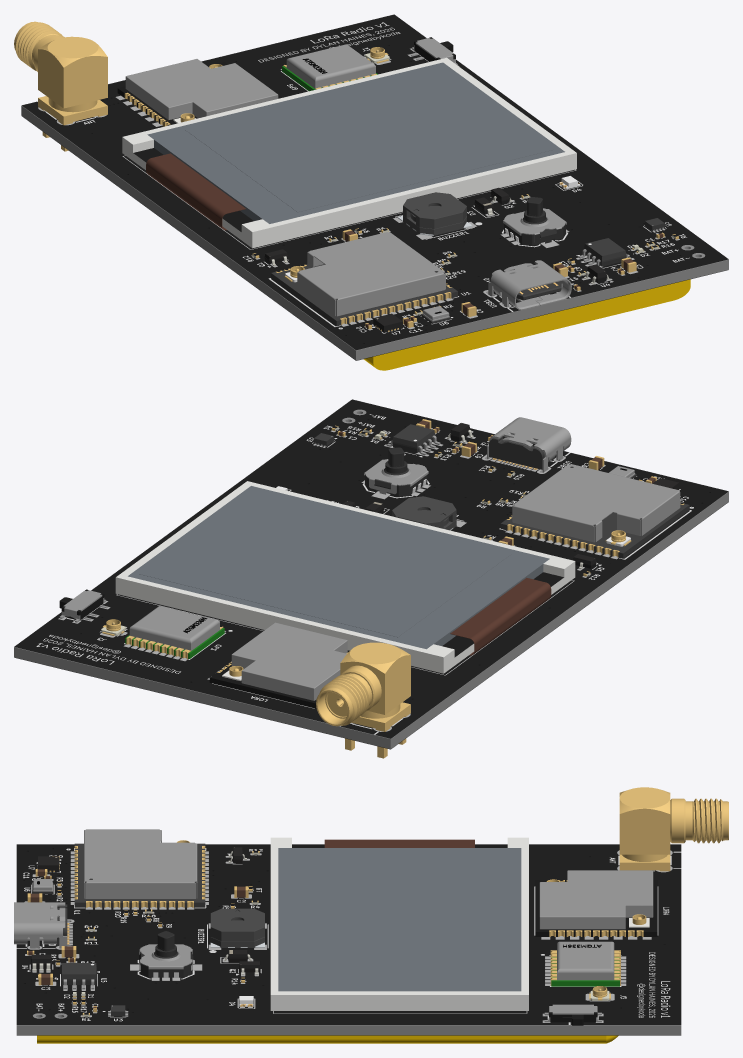
3 views of the same model, one above another, from view 1: azimuth 30°, elevation 25°; view 2: azimuth 150°, elevation 25°; view 3: azimuth 270°, elevation 25° (orthographic).
Visible parts, largest first — view 1: =>[0:1:1:28], =>[0:1:1:27], Glass, U1, Screen support, LORA, ANT, COMPOUND008, =>[0:1:1:26], USB1, Ribon cable, GPS (+5 smaller); view 2: =>[0:1:1:28], =>[0:1:1:27], Glass, U1, Screen support, LORA, ANT, GPS, USB1, Ribon cable, =>[0:1:1:26], SW1 (+4 smaller); view 3: =>[0:1:1:28], =>[0:1:1:27], Glass, U1, Screen support, LORA, ANT, COMPOUND008, =>[0:1:1:26], GPS, =>[0:1:1:25], USB1 (+5 smaller).
Part boxes in pixels (<box>): =>[0:1:1:28]: <box>21,15,728,360</box>; =>[0:1:1:27]: <box>22,14,728,360</box>; Glass: <box>147,62,564,223</box>; U1: <box>271,232,457,326</box>; Screen support: <box>122,57,576,248</box>; LORA: <box>117,59,278,126</box>; ANT: <box>14,21,107,151</box>; COMPOUND008: <box>363,279,690,370</box>; =>[0:1:1:26]: <box>37,22,689,334</box>; USB1: <box>488,260,571,310</box>; Ribon cable: <box>146,153,245,230</box>; GPS: <box>282,44,377,91</box>; =>[0:1:1:28]: <box>14,400,728,749</box>; =>[0:1:1:27]: <box>14,399,728,749</box>; Glass: <box>128,486,549,649</box>; U1: <box>500,464,689,558</box>; Screen support: <box>115,481,575,673</box>; LORA: <box>209,622,349,708</box>; ANT: <box>316,642,410,758</box>; GPS: <box>125,606,224,659</box>; USB1: <box>487,417,571,472</box>; Ribon cable: <box>450,577,551,655</box>; =>[0:1:1:26]: <box>36,414,693,734</box>; SW1: <box>364,447,428,496</box>; =>[0:1:1:28]: <box>16,845,681,1035</box>; =>[0:1:1:27]: <box>16,844,681,1035</box>; Glass: <box>278,848,521,991</box>; U1: <box>74,829,205,907</box>; Screen support: <box>270,837,528,1010</box>; LORA: <box>535,870,657,936</box>; ANT: <box>619,787,728,871</box>; COMPOUND008: <box>37,1035,618,1043</box>; =>[0:1:1:26]: <box>16,848,681,1024</box>; GPS: <box>550,941,620,986</box>; =>[0:1:1:25]: <box>24,850,672,1022</box>; USB1: <box>14,902,69,948</box>.
Bounding box in the file's own units: 0.0597 × 0.0153 × 0.0987.
